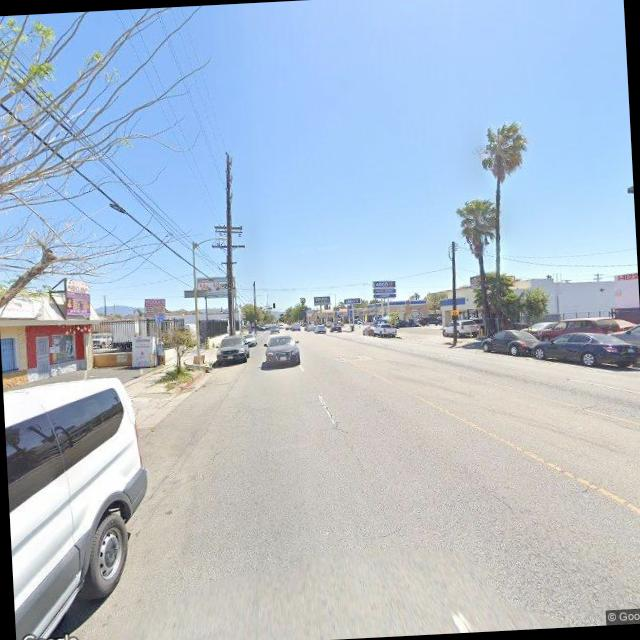pothole: (316, 390, 343, 433)
